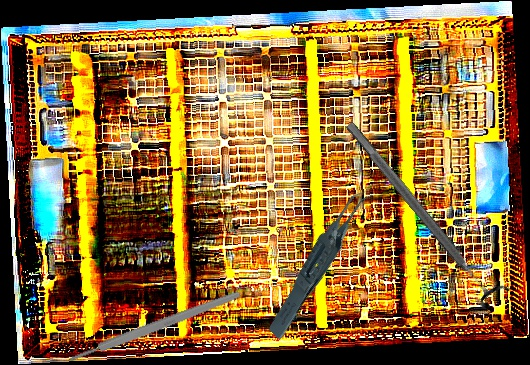Fixation Ring: (334, 112, 512, 313)
Scalpel Handle: (66, 288, 243, 365)
Tissue Forceps: (242, 185, 402, 342)
